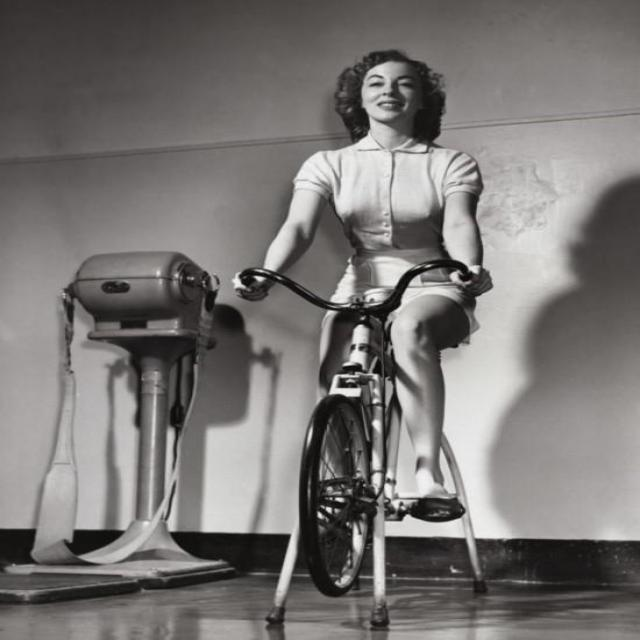Manusia: (226, 13, 536, 600)
